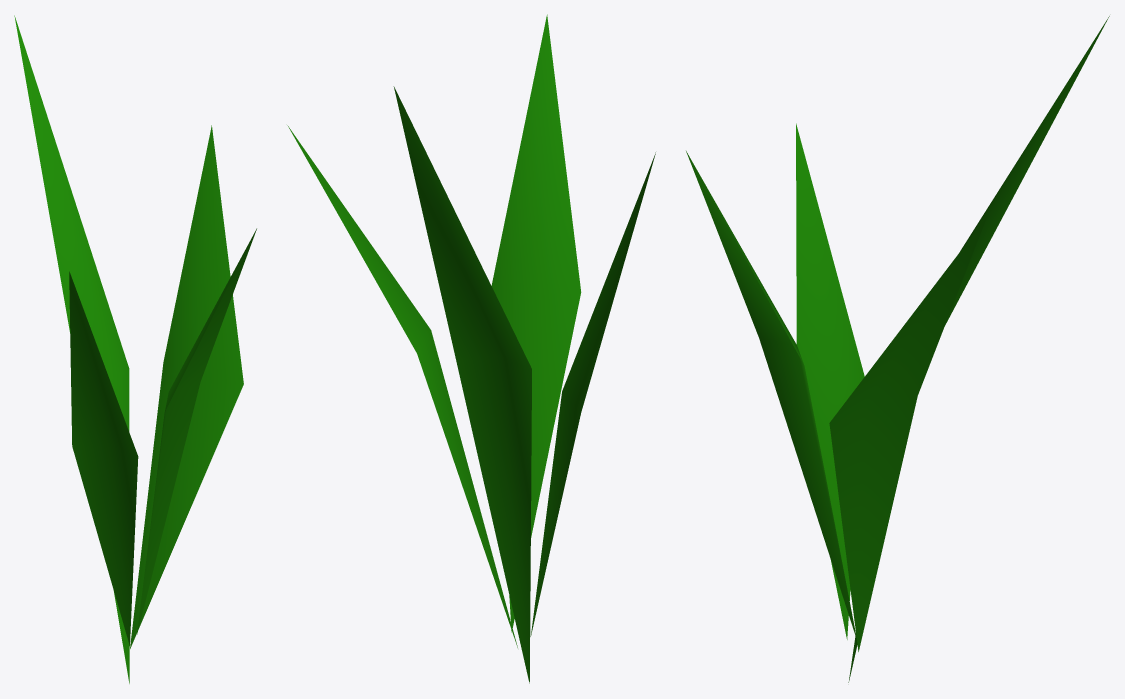
File: Daffodil Stage 1.fbx
3 views of the same model, side by side, from view 1: azimuth 30°, elevation 25°; view 2: azimuth 150°, elevation 25°; view 3: azimuth 270°, elevation 25° (orthographic). The views are drawn at different scales.
Parts seen in each view (by area): view 1: Daffodil_Stage_1; view 2: Daffodil_Stage_1; view 3: Daffodil_Stage_1.
Part boxes in pixels (<box>): Daffodil_Stage_1: <box>14,15,256,683</box>; Daffodil_Stage_1: <box>287,14,655,683</box>; Daffodil_Stage_1: <box>686,16,1109,682</box>.
Size of the model in its own units: 0.1207 by 0.2988 by 0.1718.
